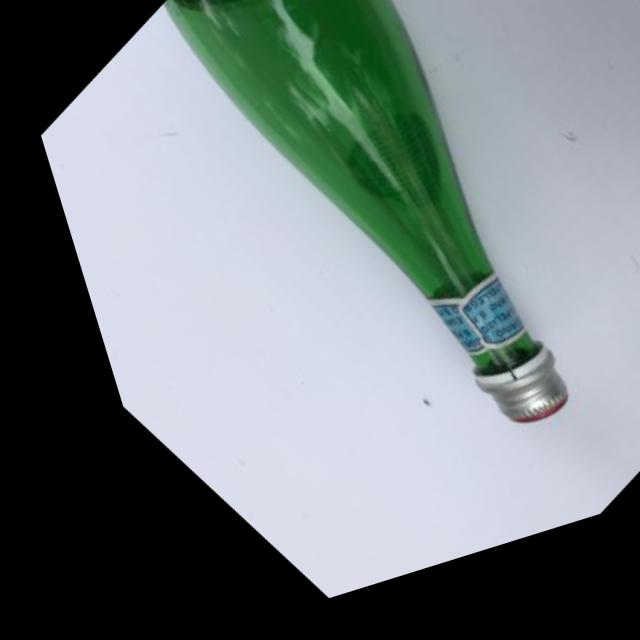glass: (51, 0, 640, 596)
